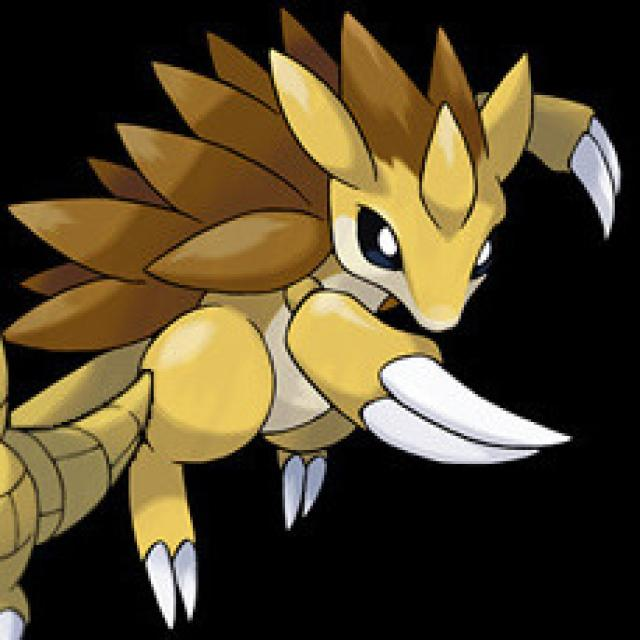Sandslash: (40, 21, 640, 610)
